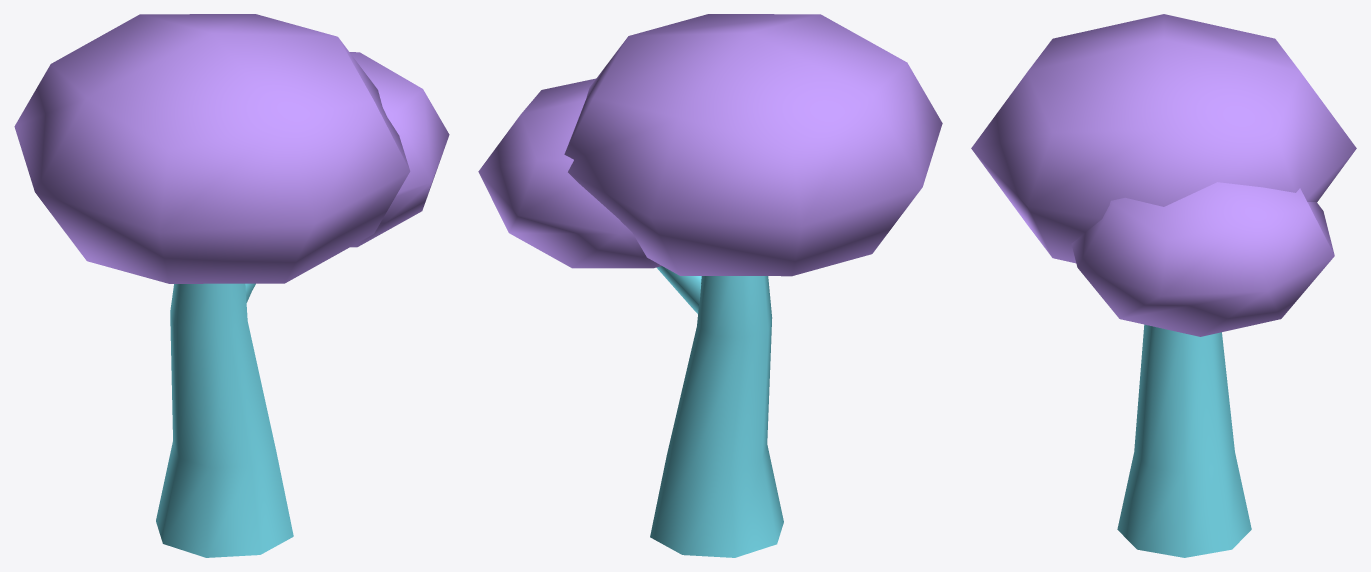
File: Tree.glb
3 views of the same model, side by side, from view 1: azimuth 30°, elevation 25°; view 2: azimuth 150°, elevation 25°; view 3: azimuth 270°, elevation 25° (orthographic). The views are drawn at different scales.
Parts seen in each view (by area): view 1: Trees; view 2: Trees; view 3: Trees.
Part boxes in pixels (x1=…): Trees: x1=14, y1=14, x2=449, y2=557; Trees: x1=478, y1=14, x2=942, y2=557; Trees: x1=971, y1=14, x2=1356, y2=557.
Bounding box in the file's own units: 6.68 × 7.86 × 5.74.
